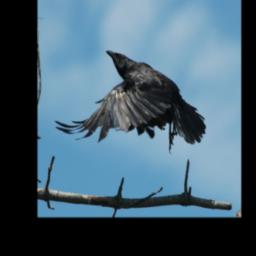Crow: (51, 48, 205, 155)
